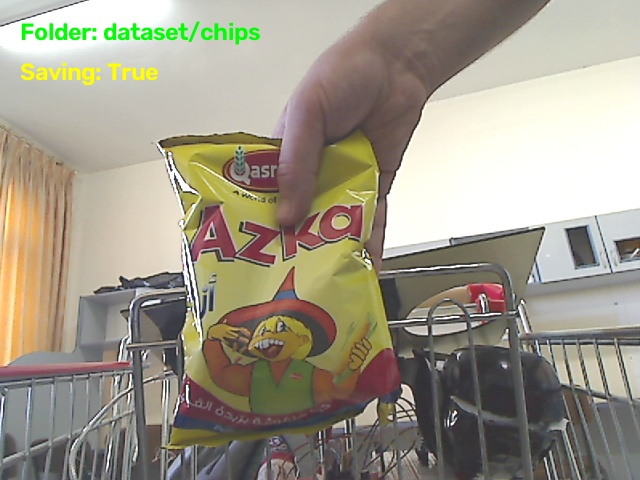chips: (159, 133, 398, 446)
